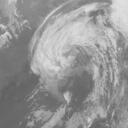cyclone: (26, 14, 109, 80)
